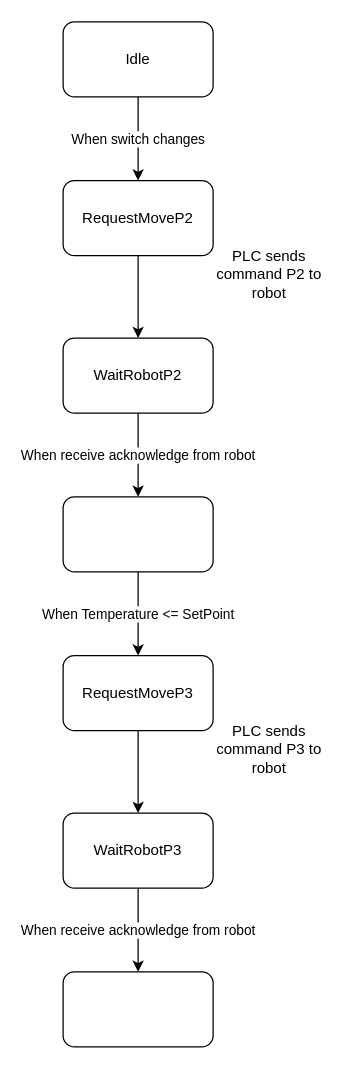
Image size: 348x1069. Some labels were removed from this diagram. The shapes that lost their labels are listed below. From the top down, each one's centre as x and y in pixels, then its label:
At (x=137, y=534): "Cooling".
At (x=137, y=1009): "Done".
